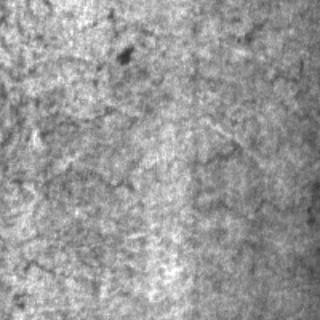crazing: (14, 159, 134, 299), (178, 141, 314, 227)
